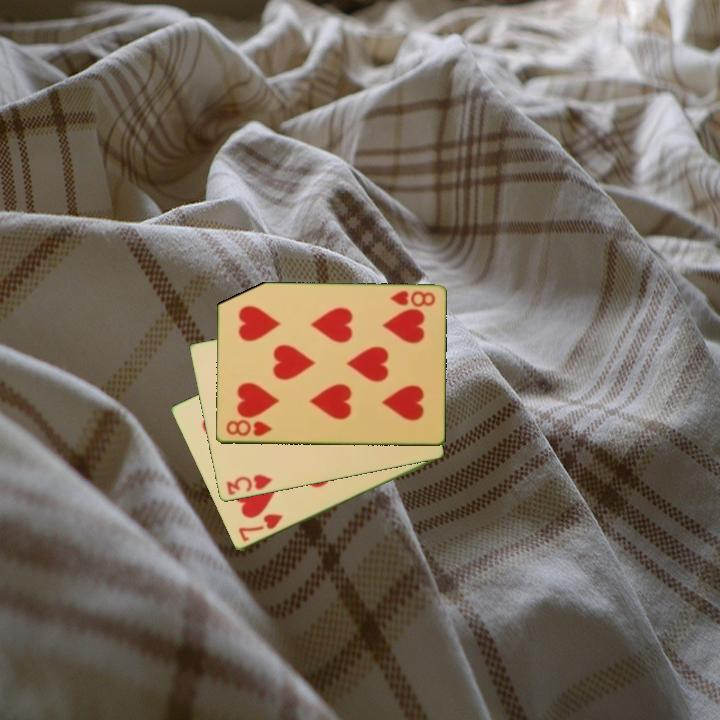3h: (223, 471, 276, 498)
7h: (234, 510, 286, 545)
8h: (387, 287, 437, 310), (223, 417, 274, 439)
